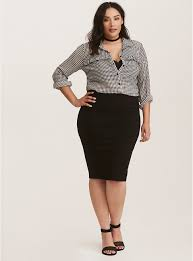F_tailored skirt: (72, 86, 145, 186)
